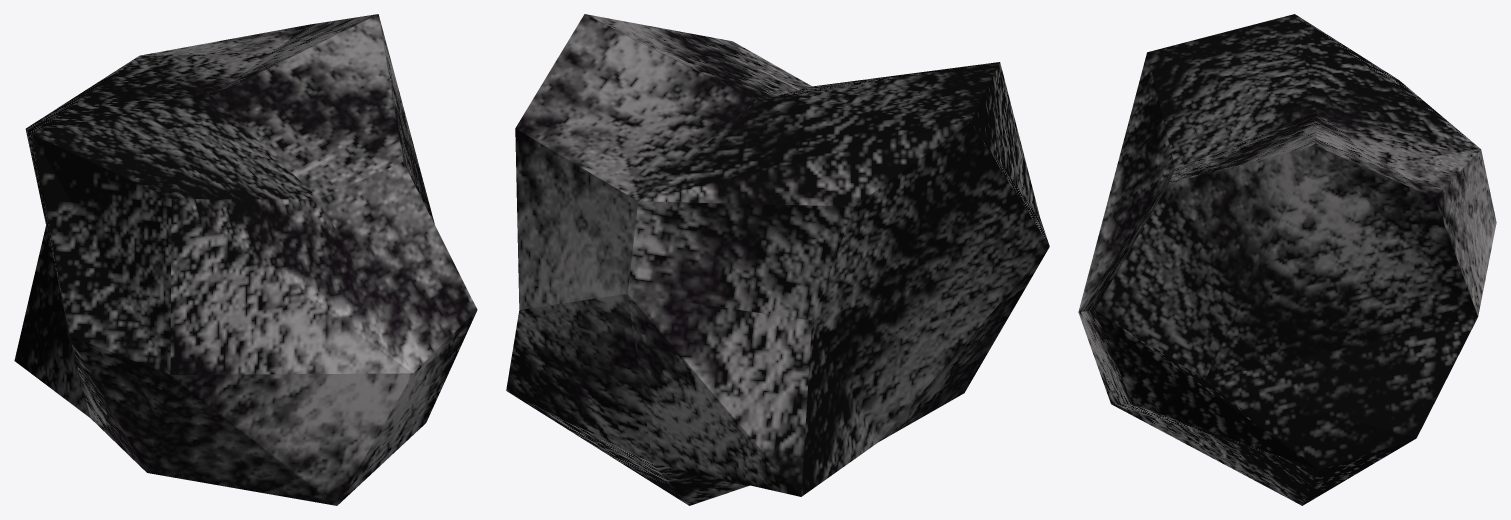
File: possible.obj
The picture shows the model from 3 angles, left to right: view 1: azimuth 30°, elevation 25°; view 2: azimuth 150°, elevation 25°; view 3: azimuth 270°, elevation 25°; orthographic projection. The views are drawn at different scales.
Parts seen in each view (by area): view 1: Cube; view 2: Cube; view 3: Cube.
Boxes of the visible parts, x1,y1,x2,y2 form: Cube: [14, 14, 477, 505]; Cube: [506, 14, 1049, 505]; Cube: [1078, 14, 1496, 505].
Size of the model in its own units: 3.15 by 3.38 by 3.2.
